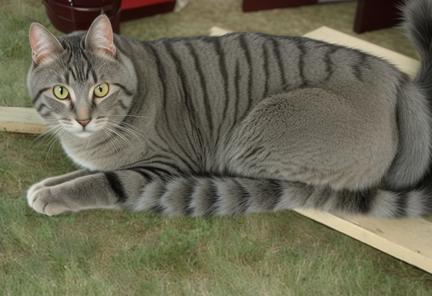cat: (25, 1, 432, 218)
